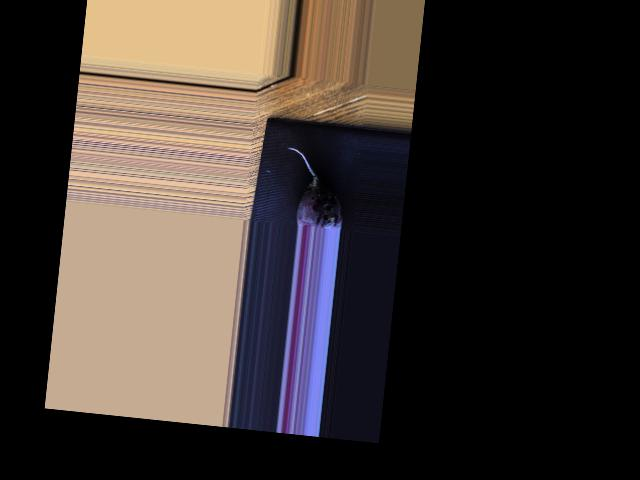beet: (280, 146, 349, 230)
